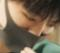with_mask: (2, 1, 60, 53)
